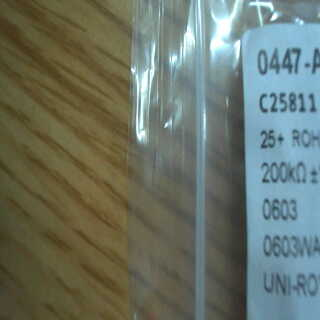200kR: (258, 158, 307, 190)
